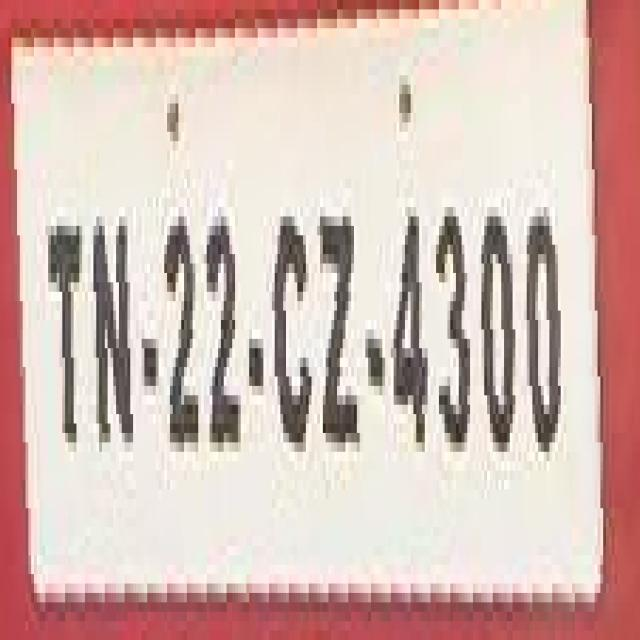license_plate: (22, 19, 594, 583)
